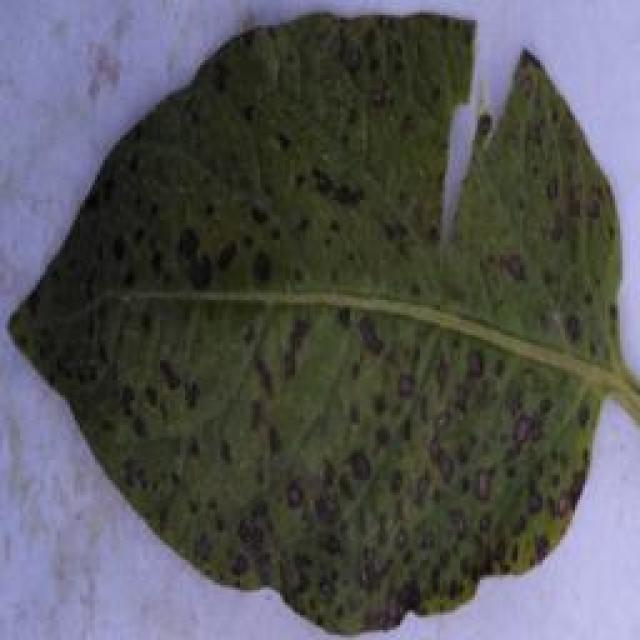Potato_Early_Blight: (4, 8, 634, 632)
